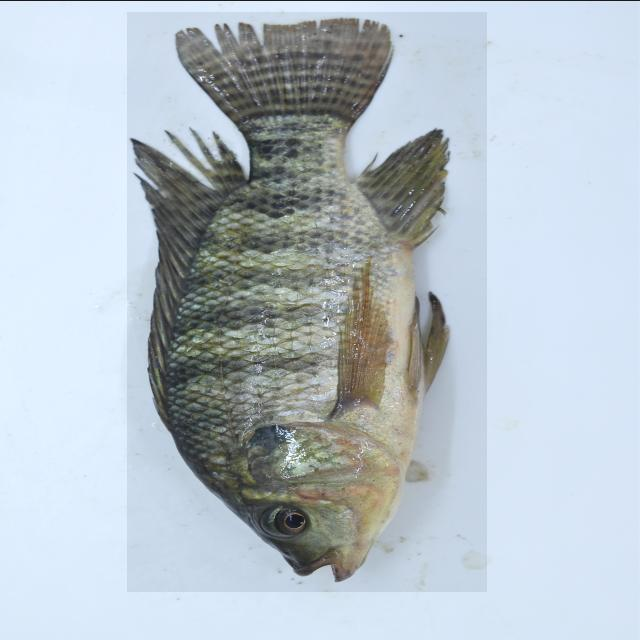Columnaris Disease: (127, 11, 487, 590)
